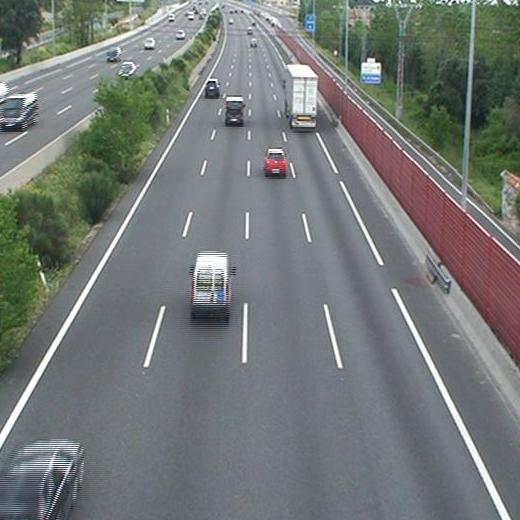car: (2, 442, 82, 520), (264, 149, 286, 174), (205, 80, 219, 96)
truck: (285, 65, 316, 129)
van: (191, 253, 231, 316), (226, 96, 243, 124)
